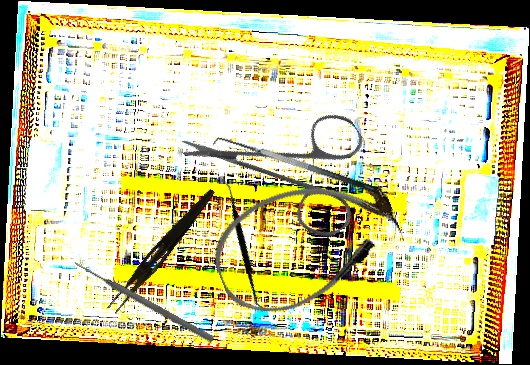Cannula: (199, 157, 414, 330)
Dressing Forceps: (106, 183, 218, 318)
Iris Scissors: (177, 56, 399, 280)
Pusher: (71, 258, 216, 344)
Spatula Surgical: (175, 177, 313, 313), (211, 128, 378, 208)
